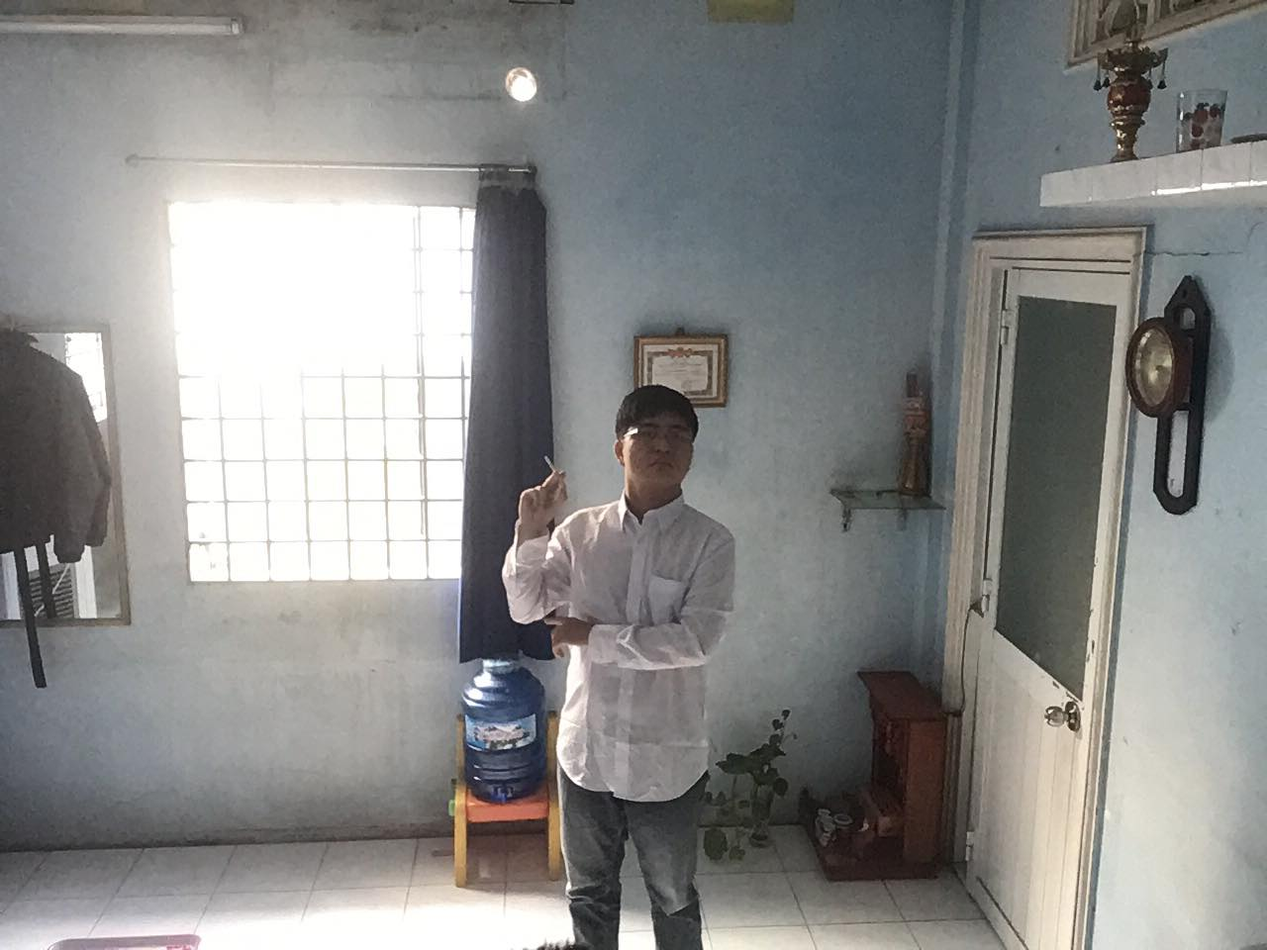cigarette: (540, 444, 562, 475)
person: (481, 360, 773, 950)
